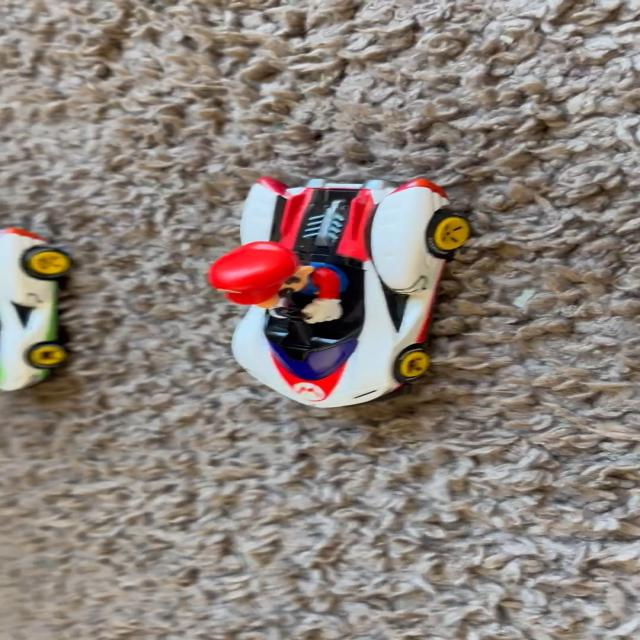mario: (205, 200, 495, 421)
yoshi: (0, 229, 86, 418)
